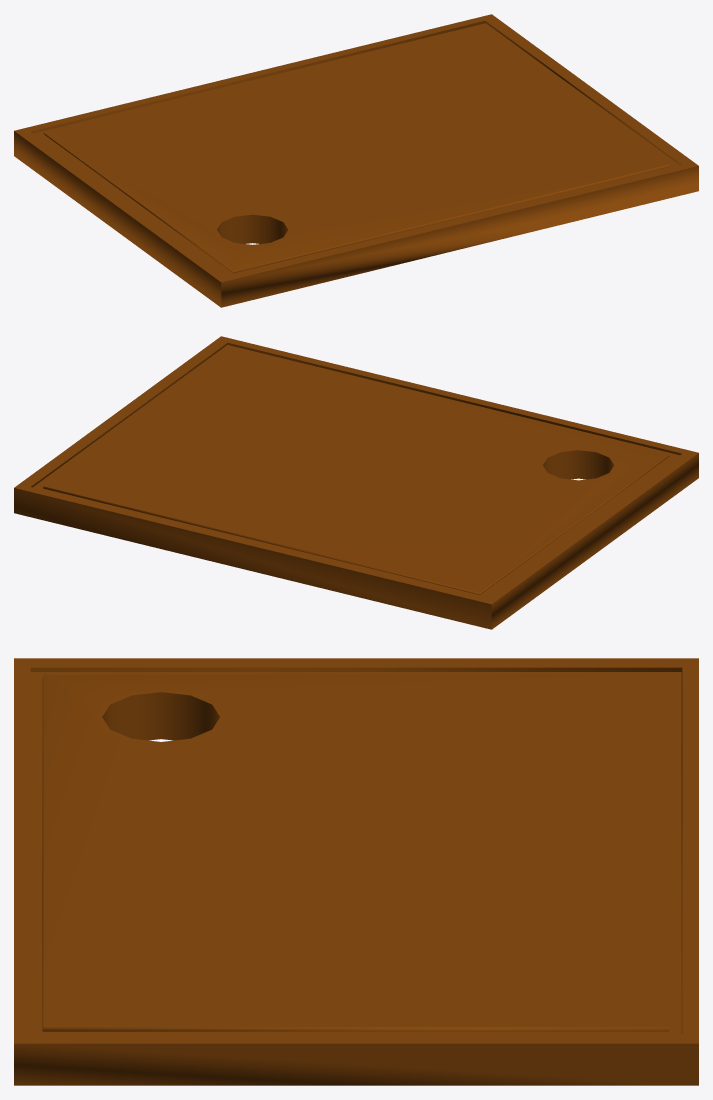
Rendered from prop_CuttingBoard.fbx.
3 renders of one model, top to bottom at view 1: azimuth 30°, elevation 25°; view 2: azimuth 150°, elevation 25°; view 3: azimuth 270°, elevation 25°, orthographic. The views are drawn at different scales.
Visible parts, largest first — view 1: CuttingBoard; view 2: CuttingBoard; view 3: CuttingBoard.
Boxes of the visible parts, x1,y1,x2,y2 form: CuttingBoard: (14,14,698,307); CuttingBoard: (14,336,698,629); CuttingBoard: (14,658,698,1085).
Size of the model in its own units: 266 by 15.16 by 200.
